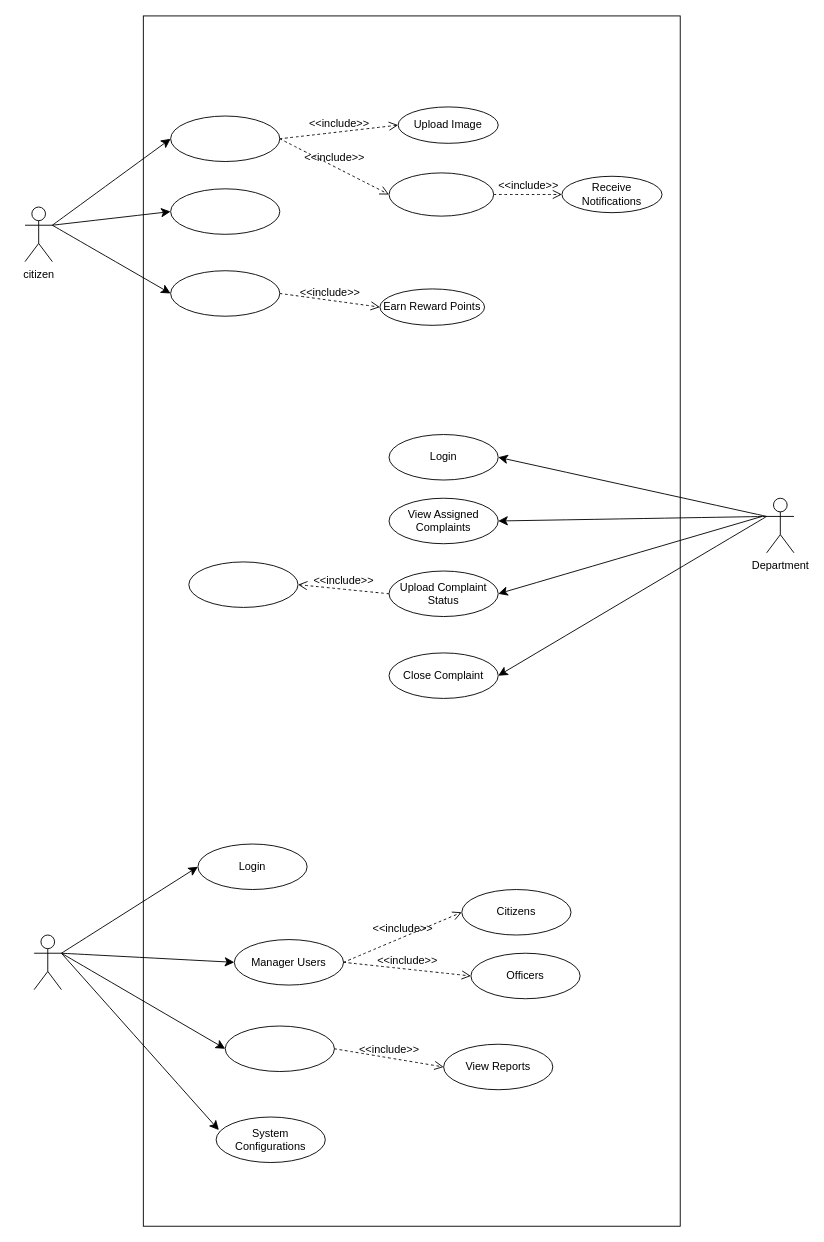
The diagram is 824 pixels wide and 1242 high, and some of its shapes have lost their labels. The shapes that lost their labels are listed below. From the top down, each one's centre as x and y in pixels, then its label:
At pixel 225 138: "Register & Login".
At pixel 225 211: "Report Complaint".
At pixel 441 194: "Track Complaint".
At pixel 225 293: "Verify Resolution".
At pixel 243 584: "Upload Resolution Proof".
At pixel 47 962: "Administrator".
At pixel 279 1048: "Monitor Complaint".
